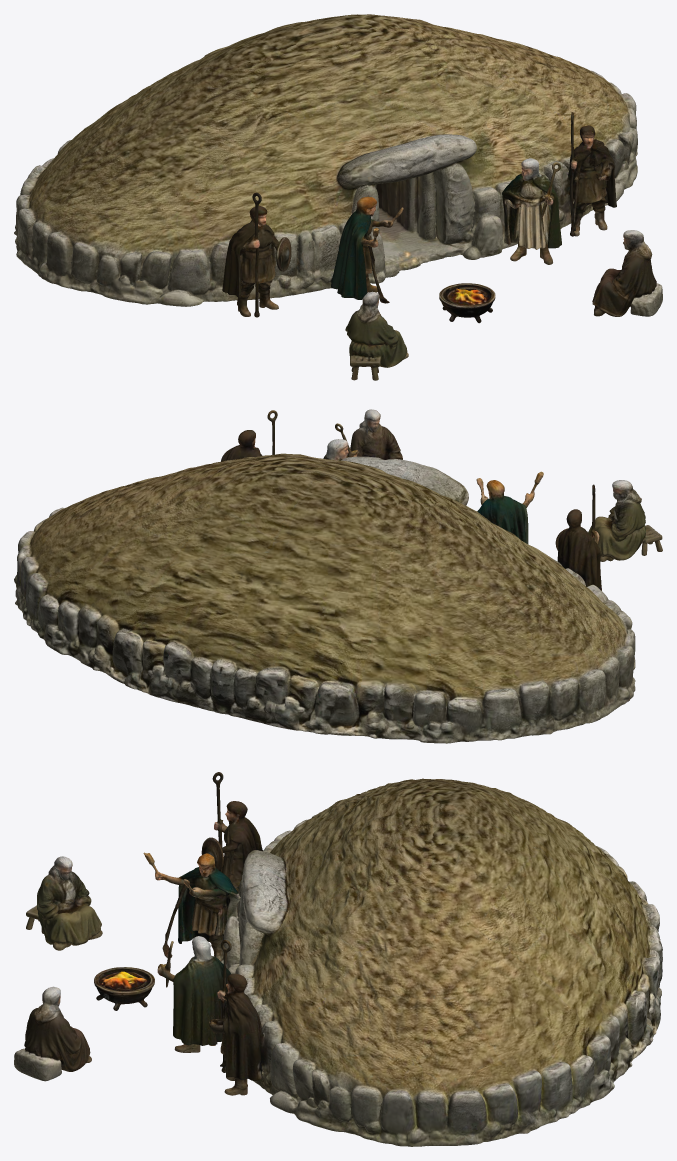
Rendered from 5mound.glb.
3 views of the same model, one above another, from view 1: azimuth 30°, elevation 25°; view 2: azimuth 150°, elevation 25°; view 3: azimuth 270°, elevation 25° (orthographic). The views are drawn at different scales.
Parts seen in each view (by area): view 1: Mesh_0.001; view 2: Mesh_0.001; view 3: Mesh_0.001.
Boxes of the visible parts, x1,y1,x2,y2 form: Mesh_0.001: (14,14,662,380); Mesh_0.001: (14,409,662,743); Mesh_0.001: (14,772,662,1146).
Size of the model in its own units: 21.22 by 6 by 18.7.
Materials: 1 (1 with a texture image).
